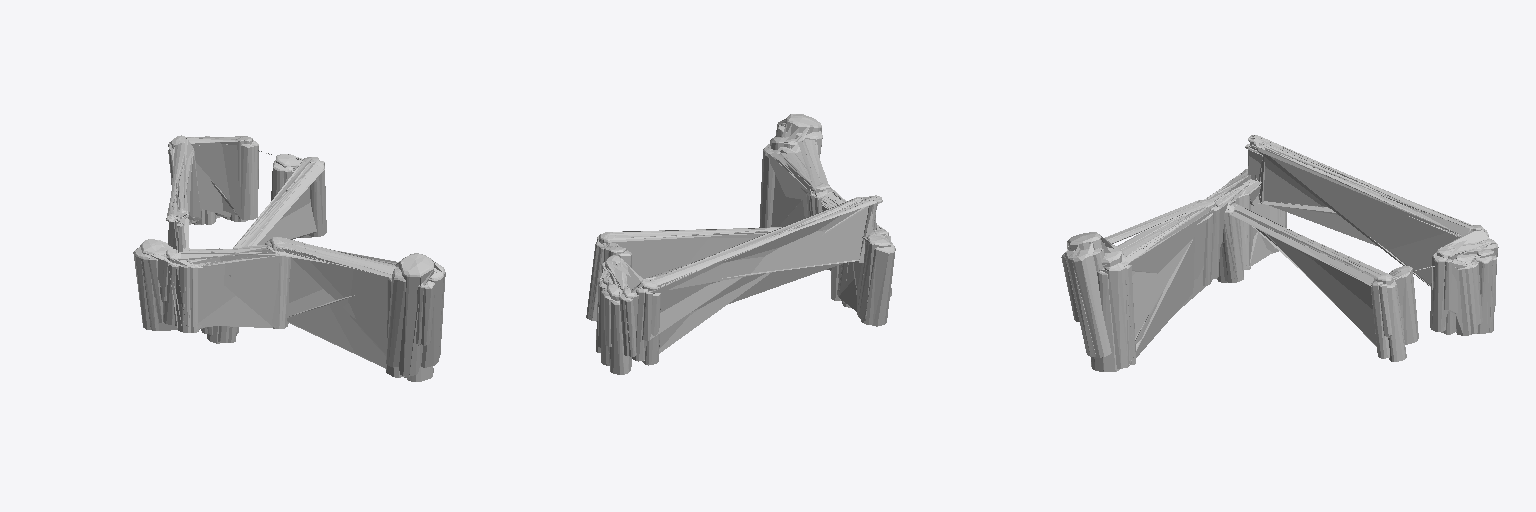
Rendered from cellRanch_Docks_Proxy-sharedassets3.assets-614.obj.
3 renders of one model, left to right at view 1: azimuth 30°, elevation 25°; view 2: azimuth 150°, elevation 25°; view 3: azimuth 270°, elevation 25°, orthographic.
Visible parts, largest first — view 1: cellRanch_Docks_Proxy_0, cellRanch_Docks_Proxy_3, cellRanch_Docks_Proxy_6, cellRanch_Docks_Proxy_4, cellRanch_Docks_Proxy_1, cellRanch_Docks_Proxy_2; view 2: cellRanch_Docks_Proxy_3, cellRanch_Docks_Proxy_0, cellRanch_Docks_Proxy_6, cellRanch_Docks_Proxy_4, cellRanch_Docks_Proxy_1; view 3: cellRanch_Docks_Proxy_3, cellRanch_Docks_Proxy_0, cellRanch_Docks_Proxy_6, cellRanch_Docks_Proxy_4, cellRanch_Docks_Proxy_1.
Boxes of the visible parts, box(x1,y1,x2,y2) form: cellRanch_Docks_Proxy_0: box(141, 157, 444, 381); cellRanch_Docks_Proxy_3: box(133, 136, 445, 381); cellRanch_Docks_Proxy_6: box(133, 135, 324, 342); cellRanch_Docks_Proxy_4: box(134, 239, 444, 381); cellRanch_Docks_Proxy_1: box(141, 237, 445, 381); cellRanch_Docks_Proxy_2: box(386, 266, 419, 366); cellRanch_Docks_Proxy_3: box(591, 114, 895, 374); cellRanch_Docks_Proxy_0: box(586, 122, 894, 321); cellRanch_Docks_Proxy_6: box(586, 191, 895, 374); cellRanch_Docks_Proxy_4: box(771, 115, 894, 326); cellRanch_Docks_Proxy_1: box(759, 115, 890, 245); cellRanch_Docks_Proxy_3: box(1061, 135, 1496, 371); cellRanch_Docks_Proxy_0: box(1062, 174, 1405, 371); cellRanch_Docks_Proxy_6: box(1203, 169, 1498, 361); cellRanch_Docks_Proxy_4: box(1068, 171, 1284, 370); cellRanch_Docks_Proxy_1: box(1064, 172, 1248, 371).
Size of the model in its own units: 106 by 60.78 by 163.